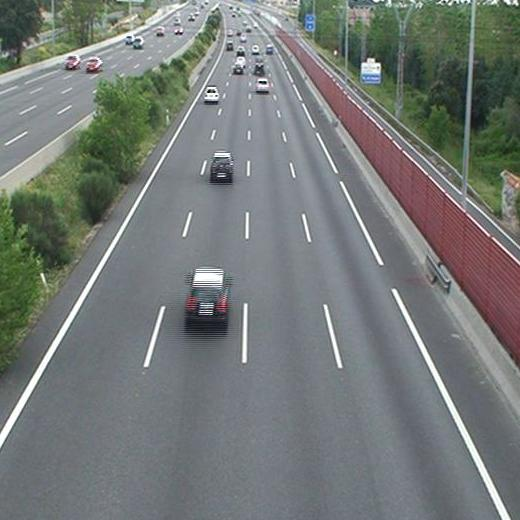car: (186, 269, 227, 324), (211, 153, 233, 179), (204, 86, 219, 102), (256, 79, 269, 92), (232, 62, 242, 72), (234, 55, 244, 62), (225, 41, 232, 51), (265, 44, 272, 53), (251, 45, 258, 53), (237, 45, 244, 53)
small-truck: (254, 57, 265, 73)
